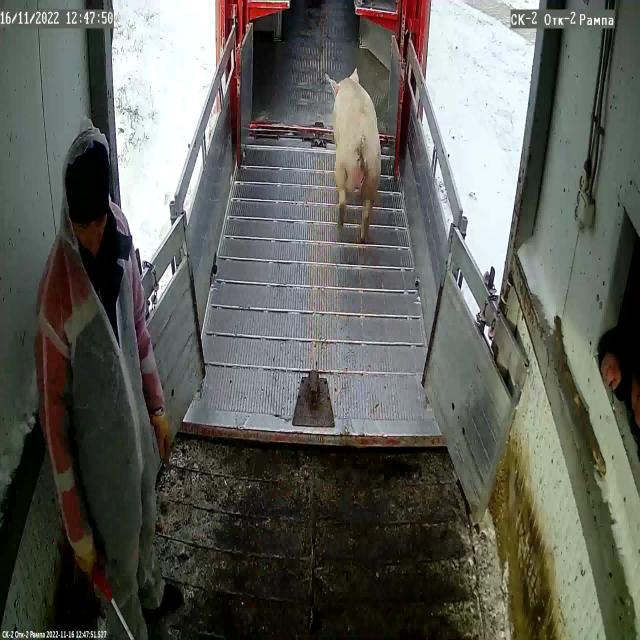pig: (330, 68, 381, 242)
